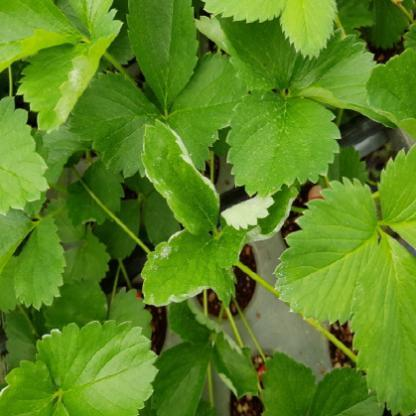Strawberry_Powdery_Mildew_Leaf: (13, 7, 124, 134), (34, 318, 160, 414), (139, 116, 220, 238), (215, 178, 301, 272), (140, 230, 238, 309), (212, 330, 260, 400), (165, 299, 220, 349)
